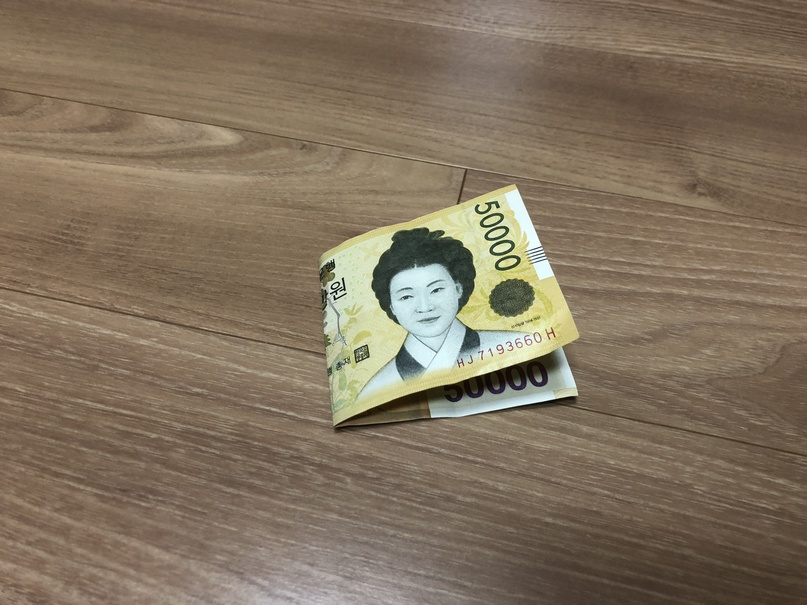50000won: (318, 184, 580, 430)
